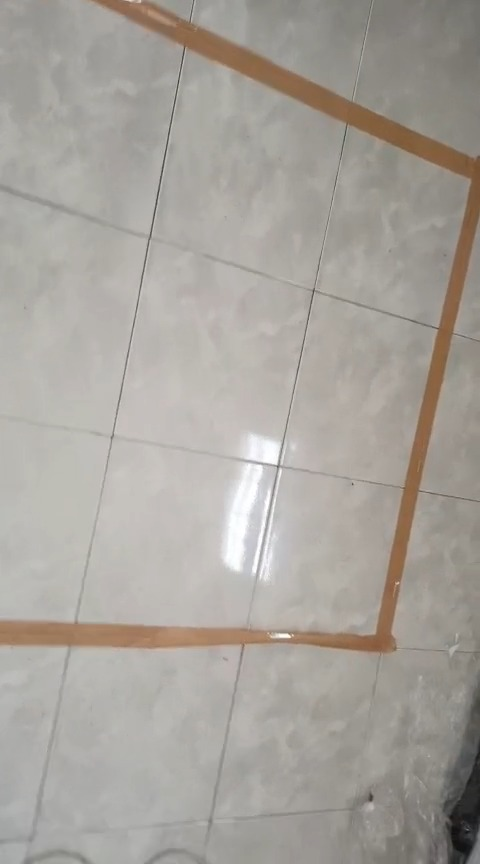floor marking: (0, 0, 479, 652)
